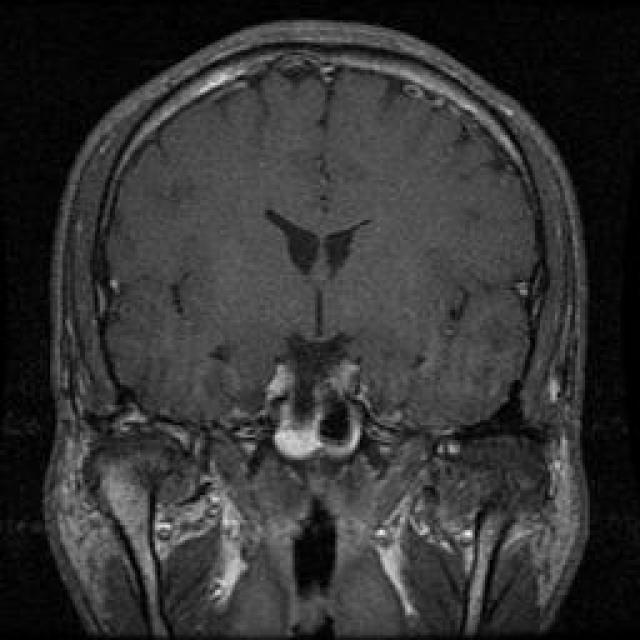pituitary: (250, 352, 386, 460)
